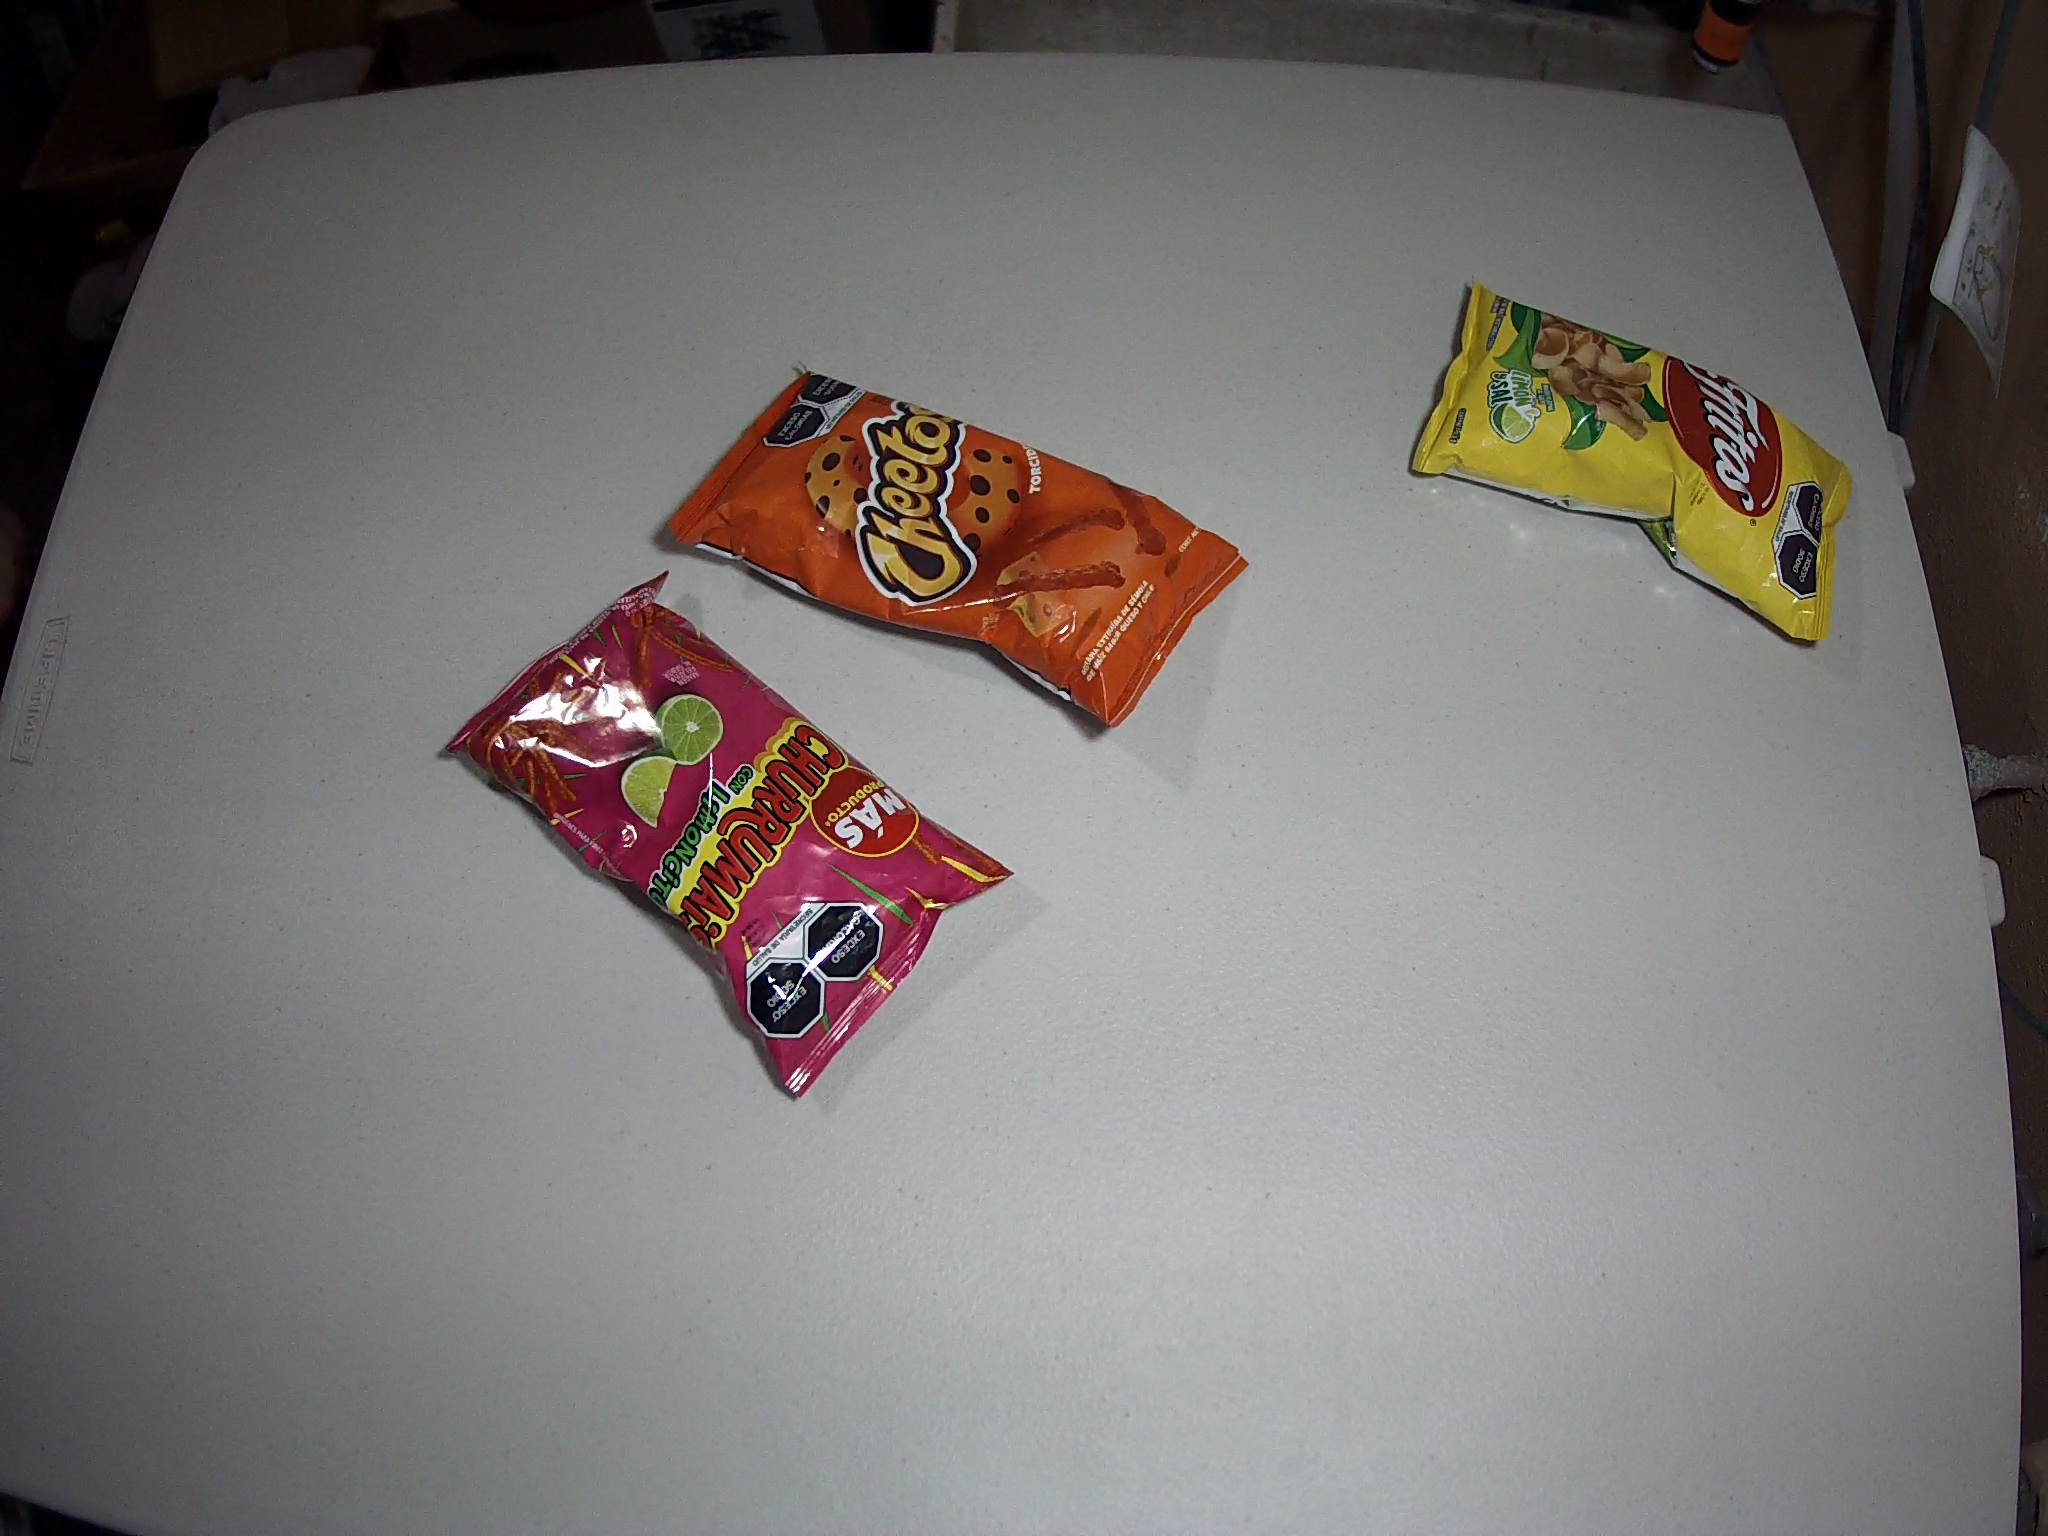CheetosTorciditos_55_F: (664, 355, 1253, 731)
Churrumais_70_F: (445, 570, 1014, 1099)
FritosSalLimon_65_F: (1409, 276, 1854, 645)
